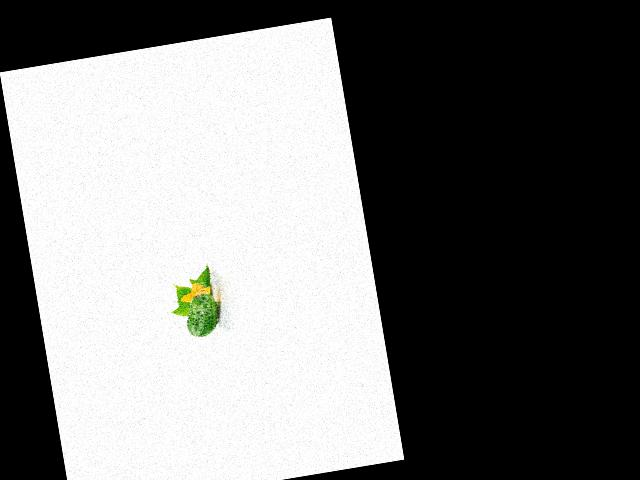cucumber: (182, 292, 222, 339)
